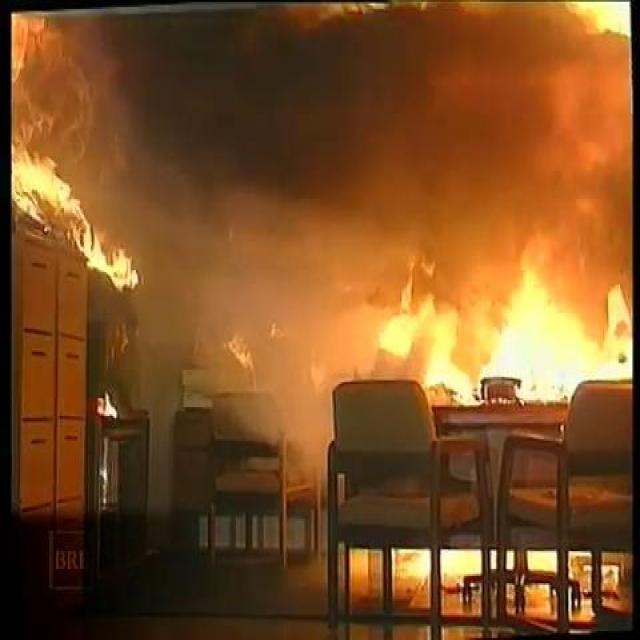fire: (383, 265, 640, 399), (10, 109, 147, 299)
